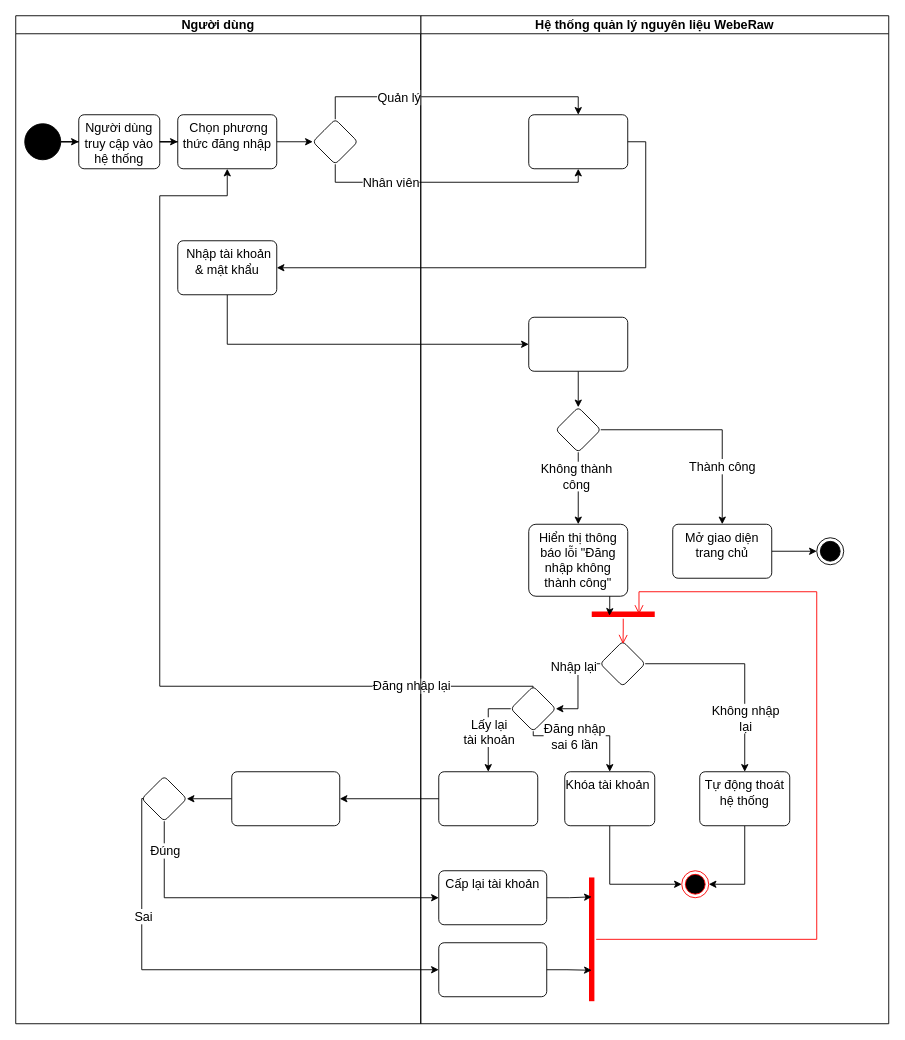
Image size: 905x1040. Some labels were removed from this diagram. The shapes that lost their labels are listed below. From the top down, each one's centre as x and y in pixels, then its label:
At pixel 578 141: "Chuyển sang màn hình đăng nhập".
At pixel 578 343: "Xác thực thông tin".
At pixel 285 798: "Nhập thông tin ban đầu khi tạo tài khoản".
At pixel 488 798: "Mở trang cập nhật lại tài khoản".
At pixel 492 969: "Thông báo lỗi sai thông tin".
